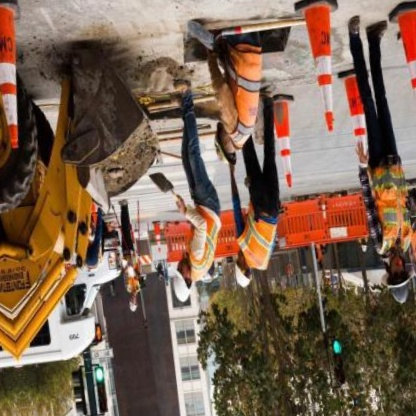vest: (217, 33, 277, 152), (364, 162, 416, 264), (235, 203, 292, 280), (182, 197, 227, 287), (120, 255, 147, 301)
white: (167, 259, 197, 307), (230, 249, 256, 296), (125, 296, 139, 316)
